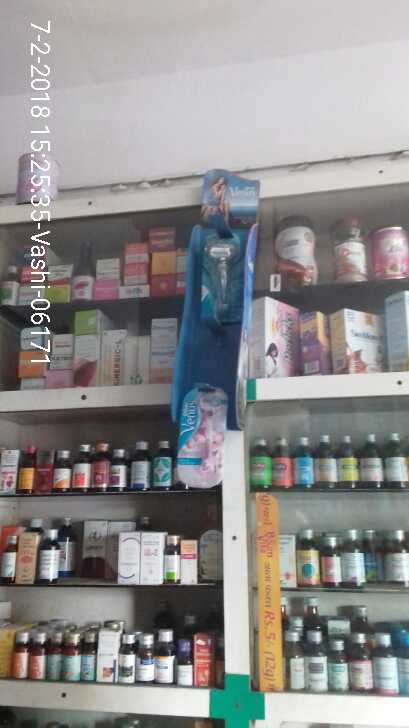venus: (176, 372, 233, 500), (196, 225, 242, 331)
